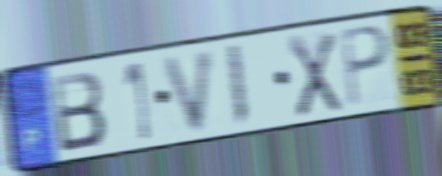1: (122, 58, 154, 143)
B: (48, 68, 108, 155)
I: (224, 41, 251, 130)
P: (338, 23, 393, 111)
V: (160, 45, 219, 136)
X: (286, 29, 343, 120)
